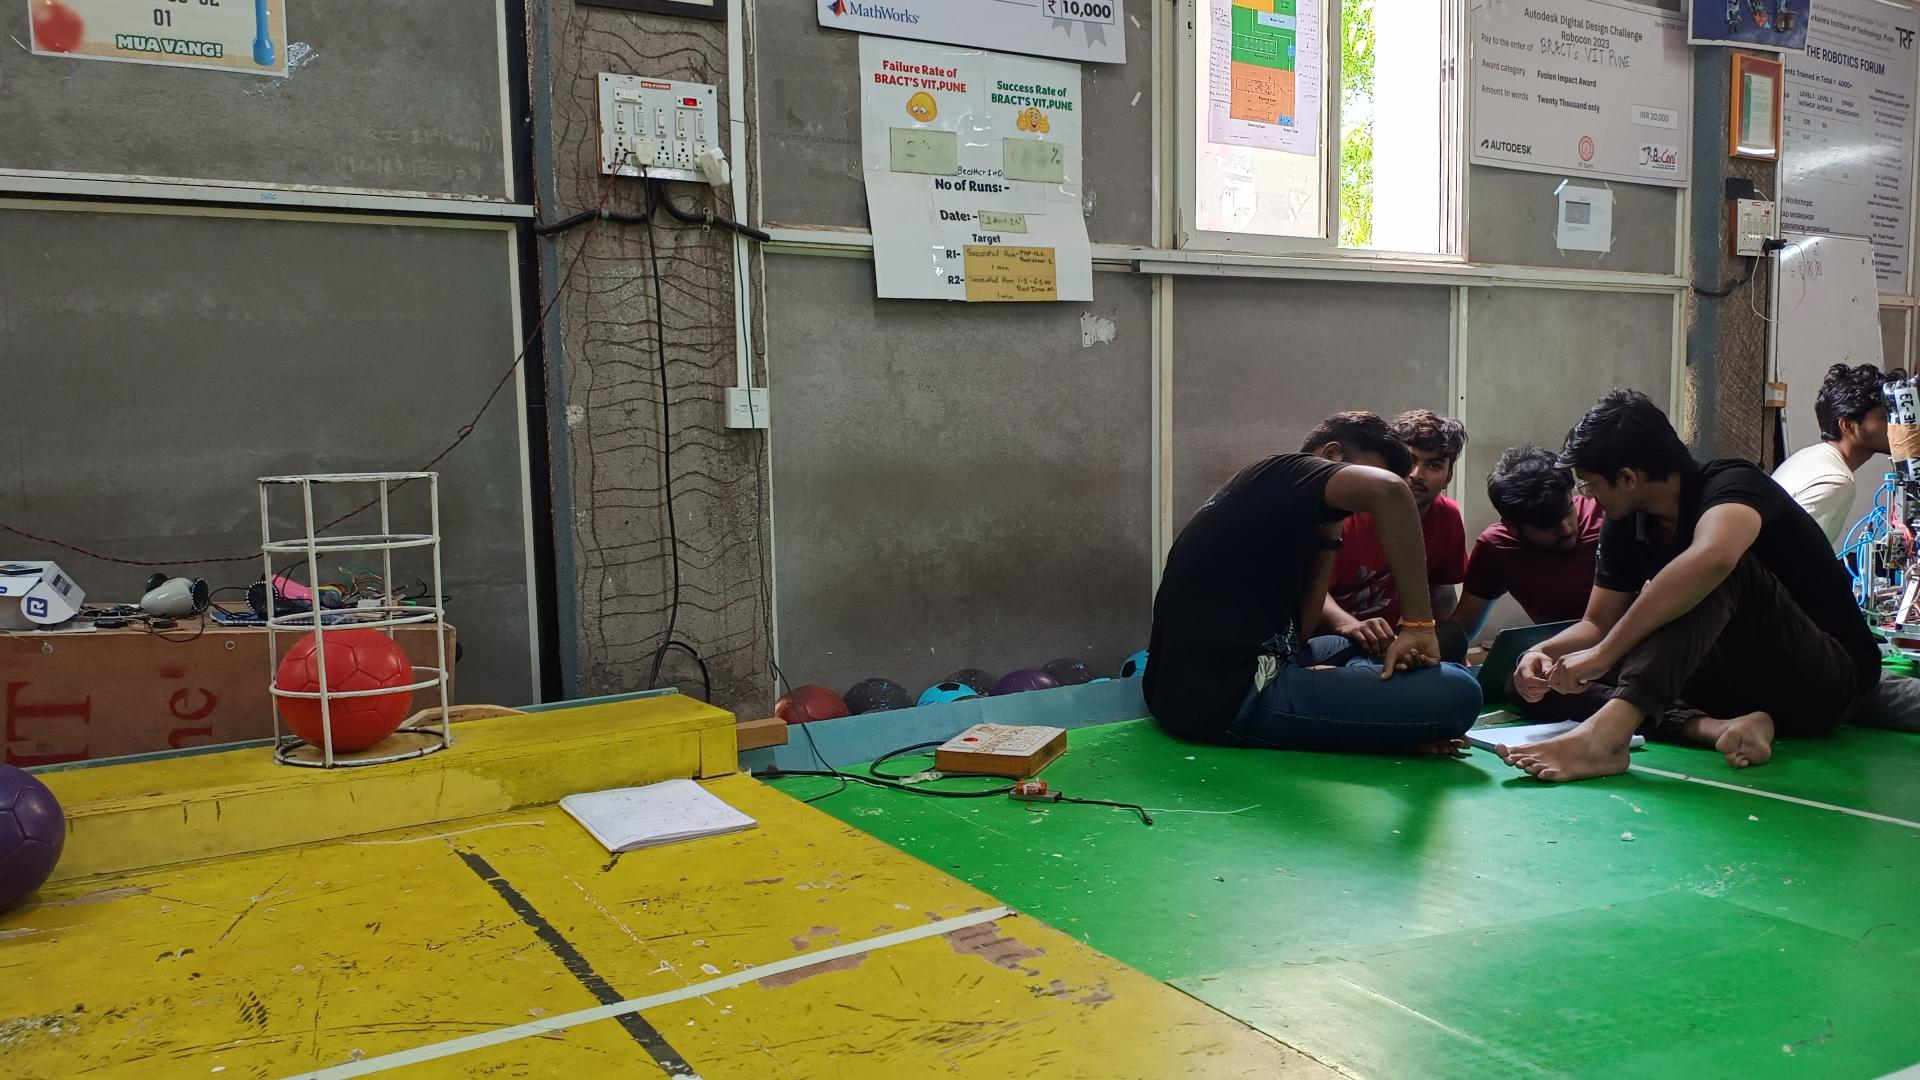laale: (276, 626, 414, 750)
